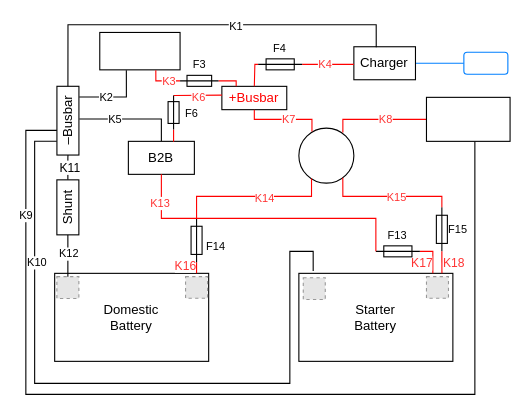
This 530x415 diagram has some shape labels left out. Grey dashed boxes stand in for pictures. Each missing label, with the centre of its shape:
"Distribution Panel" goes at point 139,50.
"Engine" goes at point 467,118.
"Mains" goes at point 485,62.
"Switch (Dual)" goes at point 326,155.
